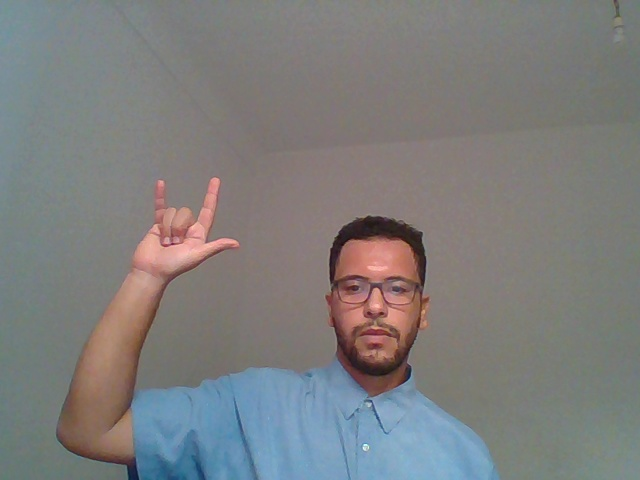iloveyou: (86, 121, 259, 371)
